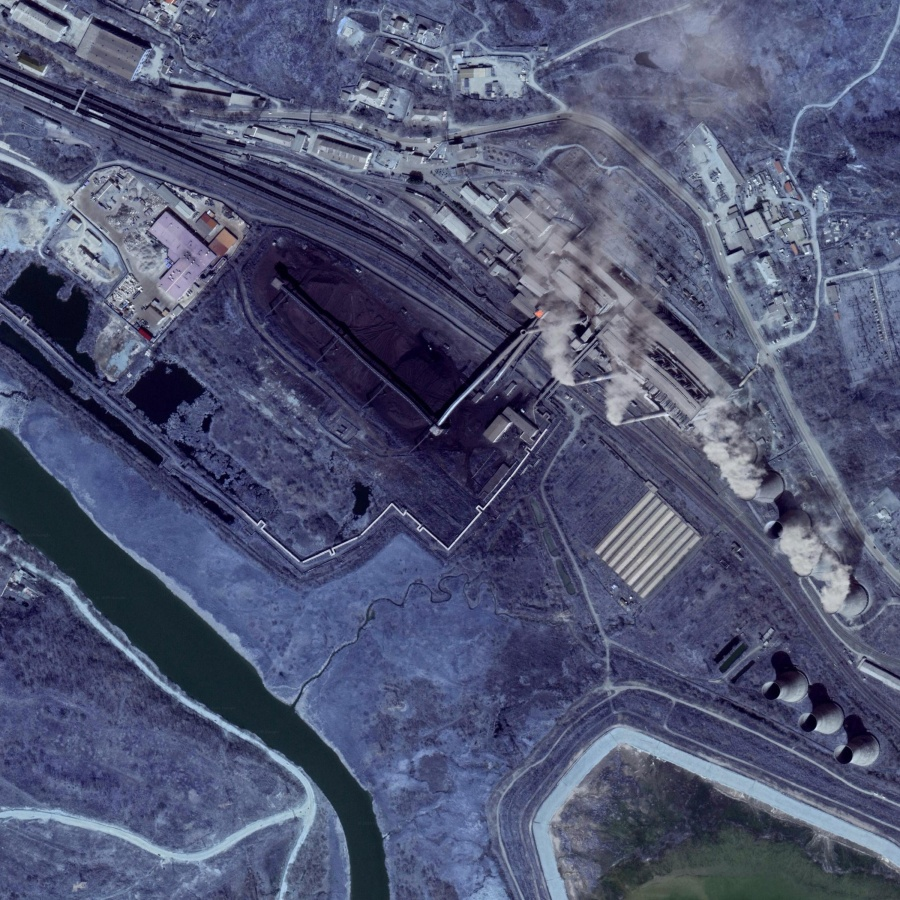PowerPlant: (247, 184, 688, 477)
